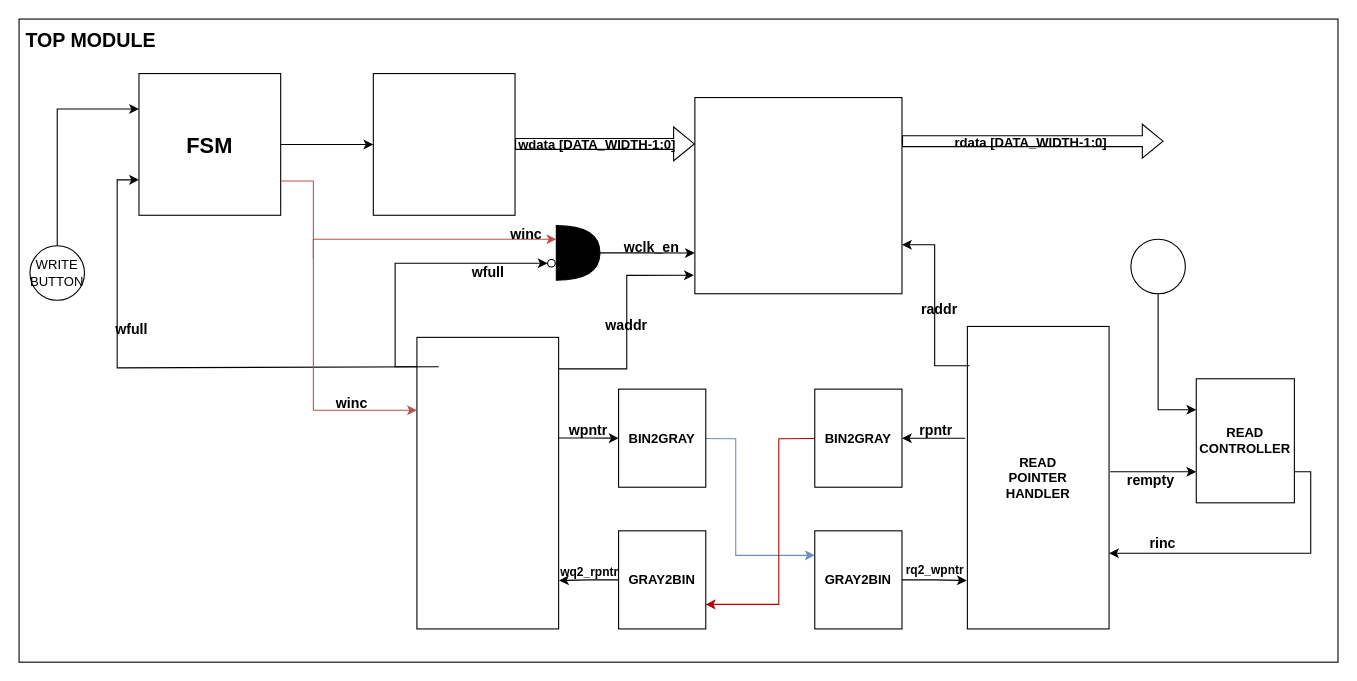
The diagram is 1357 pixels wide and 681 high, and some of its shapes have lost their labels. Here are the shapes that lost their labels. From the top down, the box of each, then its label:
(372, 72, 515, 215): LUT ROM (.mem file)
(694, 96, 902, 294): FIFO MEMORY
(1130, 238, 1185, 294): READ BUTTON
(416, 336, 559, 629): WRITE POINTER HANDLER
